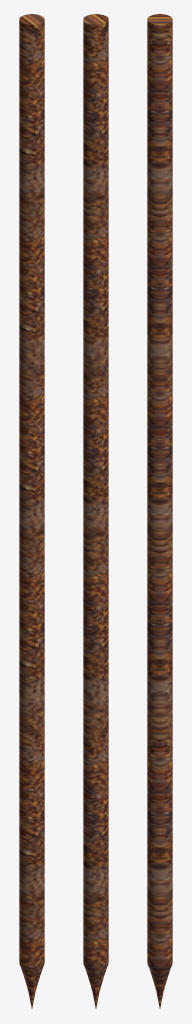
The model's file is lorn.FBX.
3 renders of one model, left to right at view 1: azimuth 30°, elevation 25°; view 2: azimuth 210°, elevation 25°; view 3: azimuth 270°, elevation 25°, orthographic.
Visible parts, largest first — view 1: Cylinder001; view 2: Cylinder001; view 3: Cylinder001.
Boxes of the visible parts, <box> form: Cylinder001: <box>19,14,44,1008</box>; Cylinder001: <box>83,14,108,1008</box>; Cylinder001: <box>147,14,172,1008</box>.
Size of the model in its own units: 22.78 by 965 by 22.44.
Materials: 1 (1 with a texture image).
